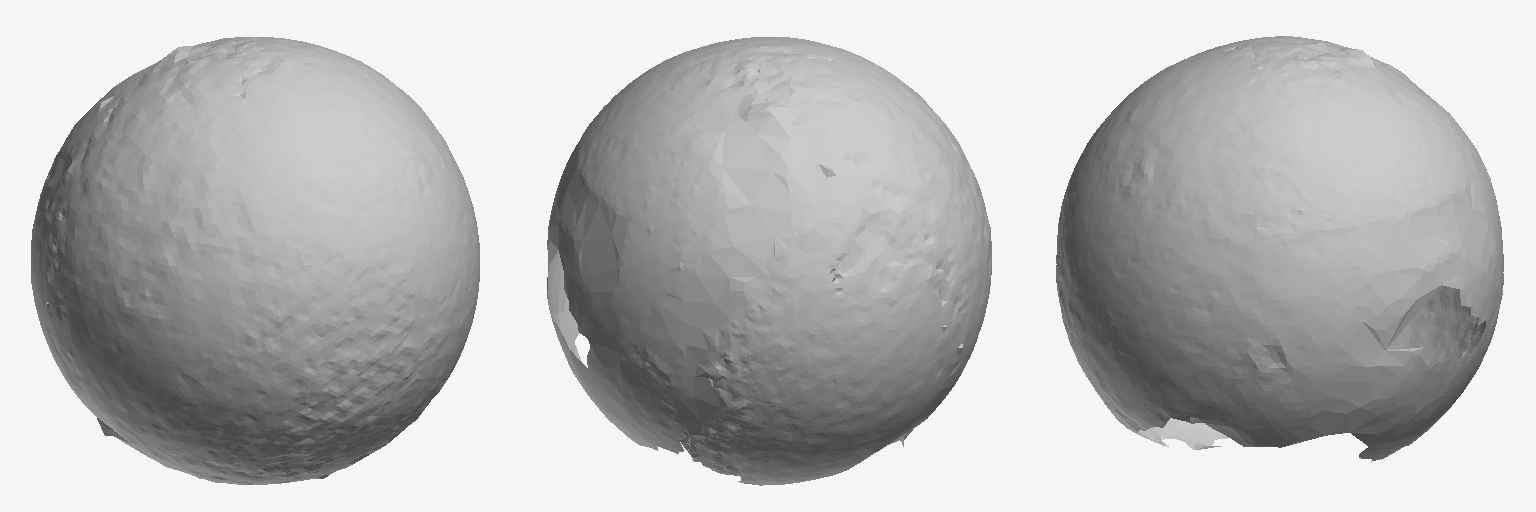
The model's file is Gridtest_2_1_0.000001.obj.
The picture shows the model from 3 angles: view 1: azimuth 30°, elevation 25°; view 2: azimuth 150°, elevation 25°; view 3: azimuth 270°, elevation 25°; orthographic projection.
Bounding box in the file's own units: 298 × 292 × 298.